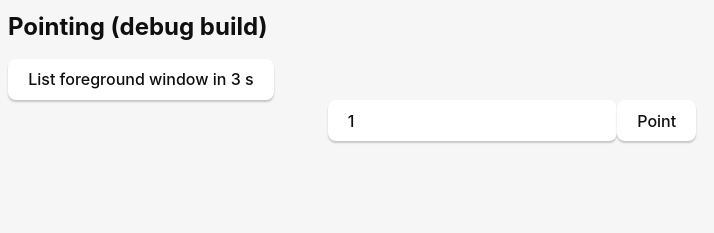
Test: PointingDebugPanel › lists the foreground window and shows the prompt text
The image size is (714, 233).
Click the button "List foreground window in 3 s".
click(141, 79)  # box [8,59,274,100]
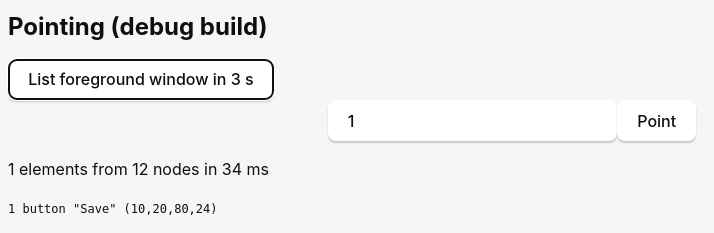
Result: the text "1 elements from 12 nodes in 34 ms" is shown at [8,159,269,179]
Result: the text "1 button \"Save\" (10,20,80,24)" is shown at [8,202,218,216]
